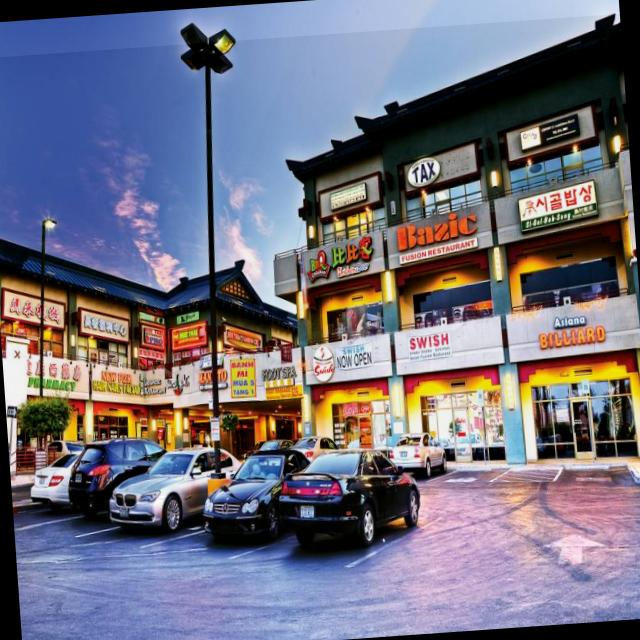House: (0, 13, 640, 506)
